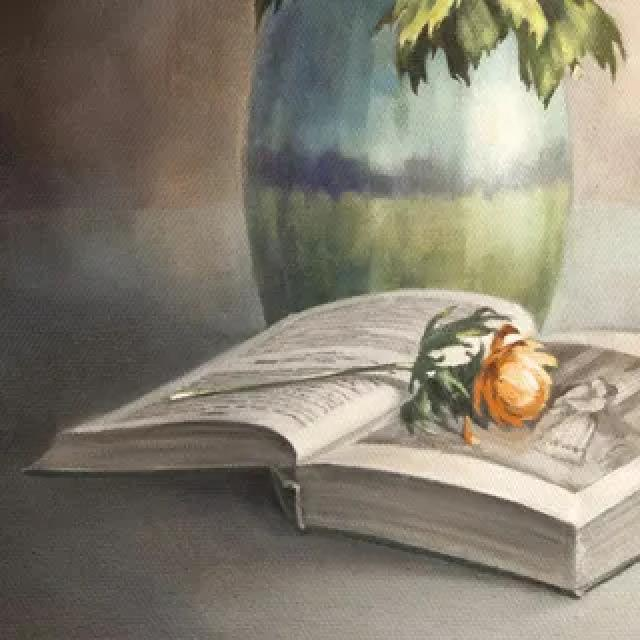book: (23, 274, 640, 604)
